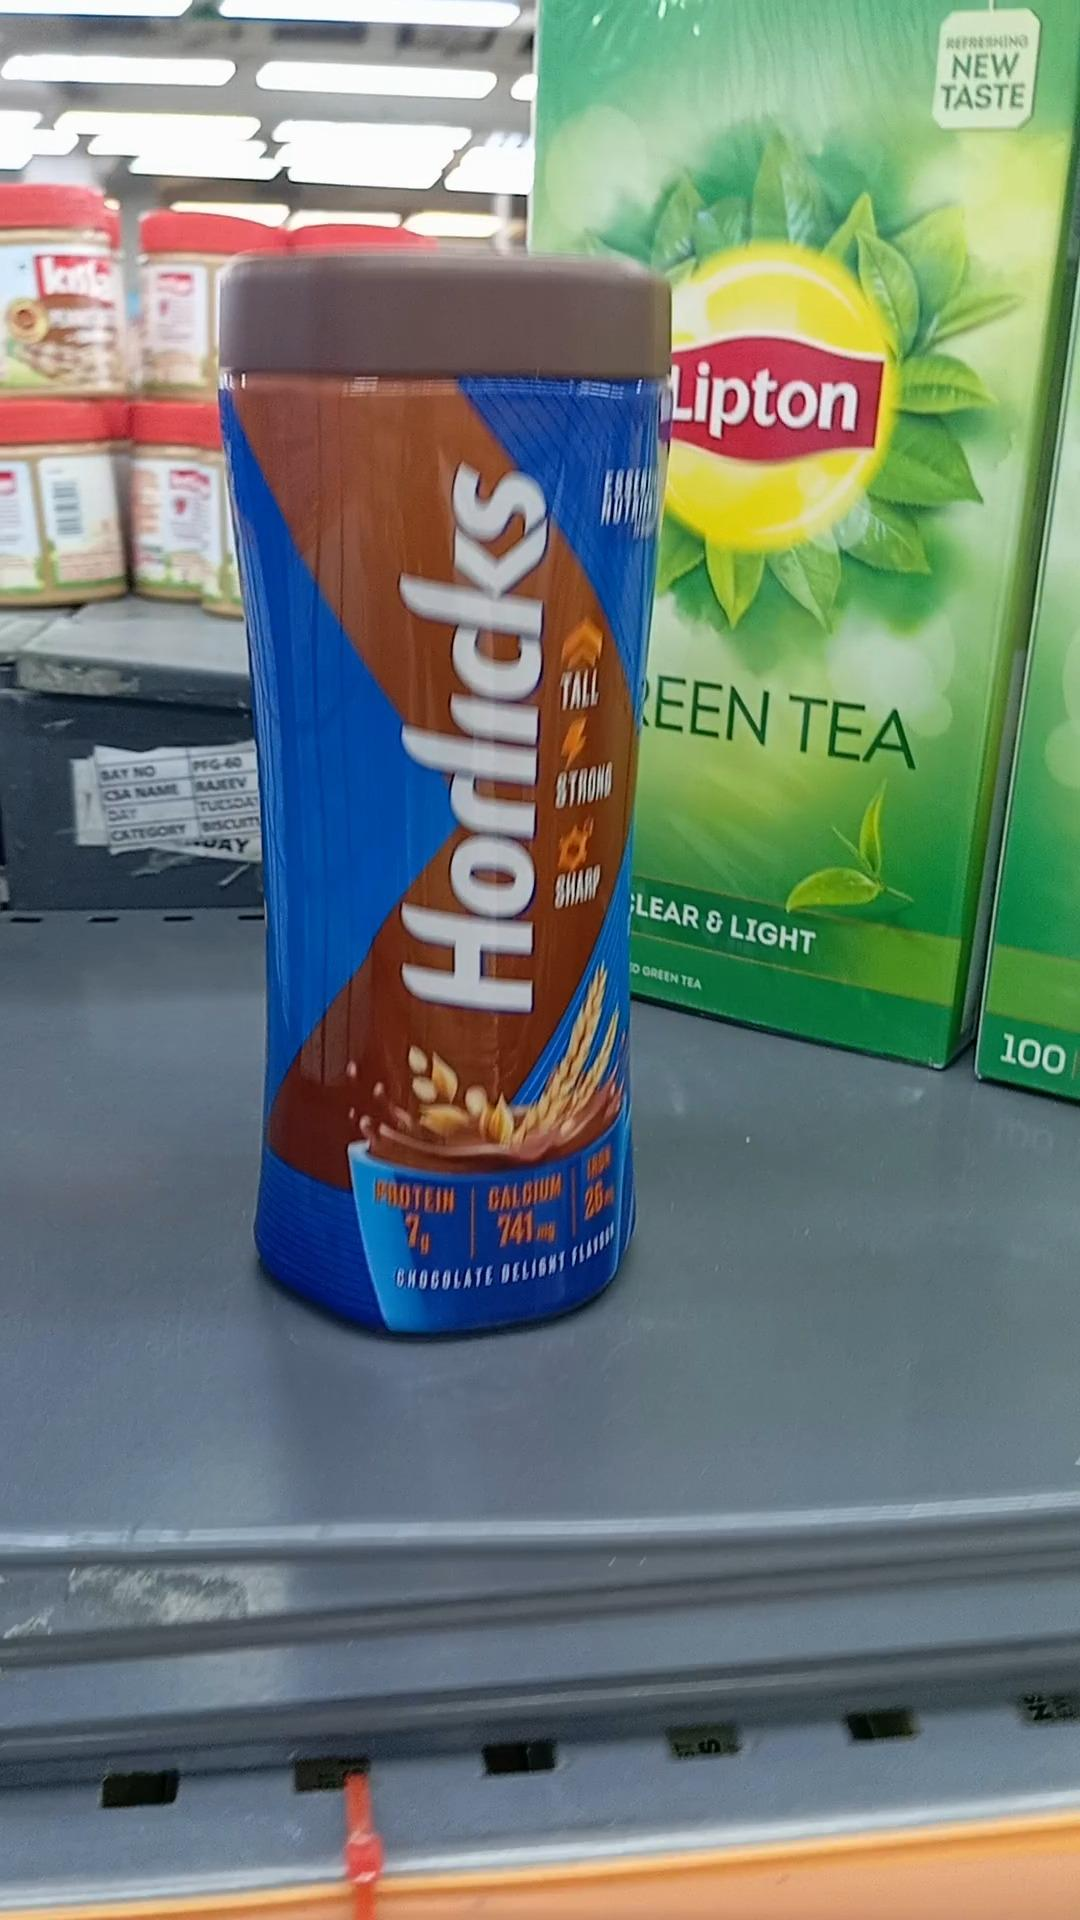HORLICK_CHOCOLATE_500_G_JAR: (235, 204, 665, 1340)
